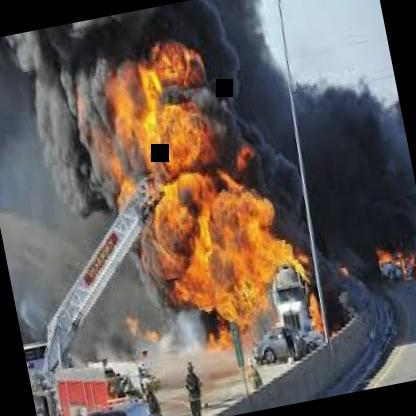fire: (101, 28, 320, 360)
